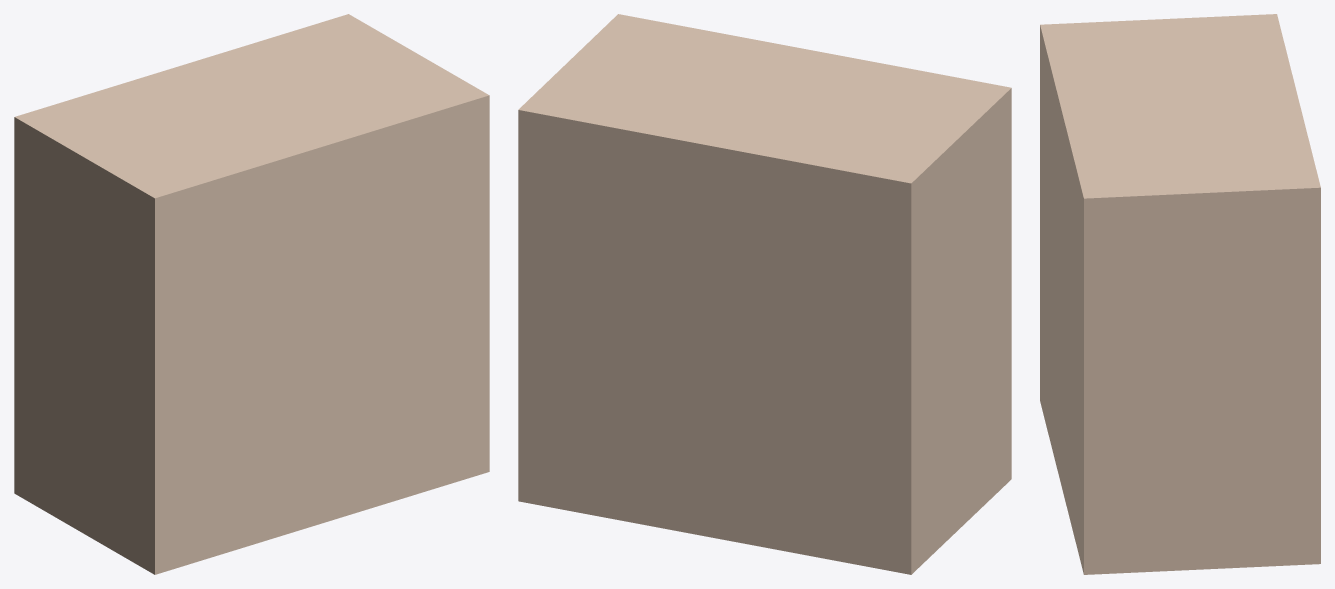
3 views of the same model, side by side, from view 1: azimuth 30°, elevation 25°; view 2: azimuth 150°, elevation 25°; view 3: azimuth 270°, elevation 25° (orthographic). The views are drawn at different scales.
Parts seen in each view (by area): view 1: SM_b68cc936bb3cb1a8803d; view 2: SM_b68cc936bb3cb1a8803d; view 3: SM_b68cc936bb3cb1a8803d.
Boxes of the visible parts, bbox=[...] form: SM_b68cc936bb3cb1a8803d: bbox=[14, 14, 489, 574]; SM_b68cc936bb3cb1a8803d: bbox=[518, 14, 1011, 574]; SM_b68cc936bb3cb1a8803d: bbox=[1040, 14, 1320, 574].
Bounding box in the file's own units: 9.47 × 6.09 × 9.
